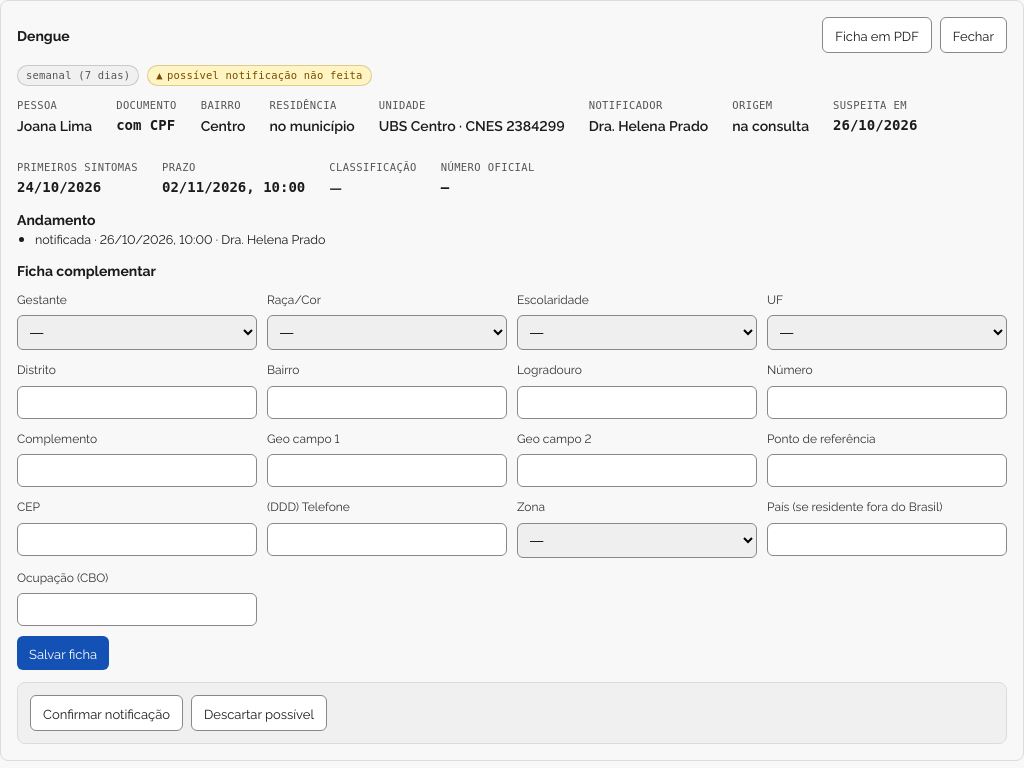
it: NotificationDetail › depois do descarte a fila e a contagem são invalidadas
The image size is (1024, 768).
Click the button "Descartar possível". click: (259,713)
box: [191,695,327,731]
(page scrolled)
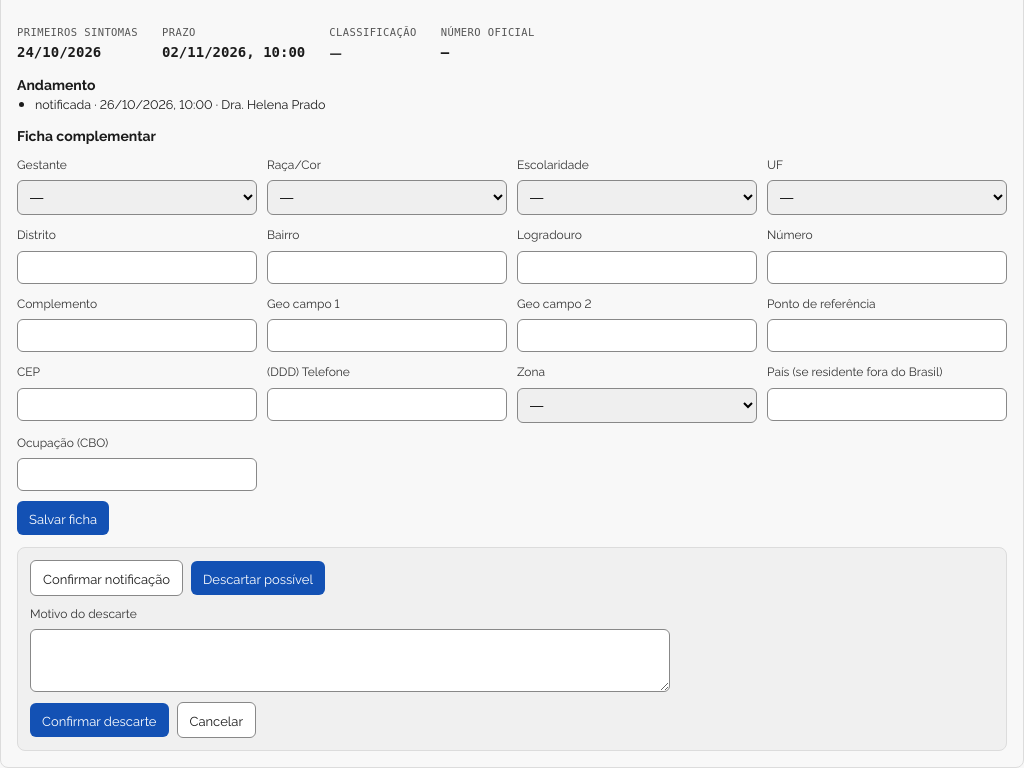
Type "não era caso" into the text box labelled "Motivo do descarte". click: (350,661)
box: [30,629,670,692]
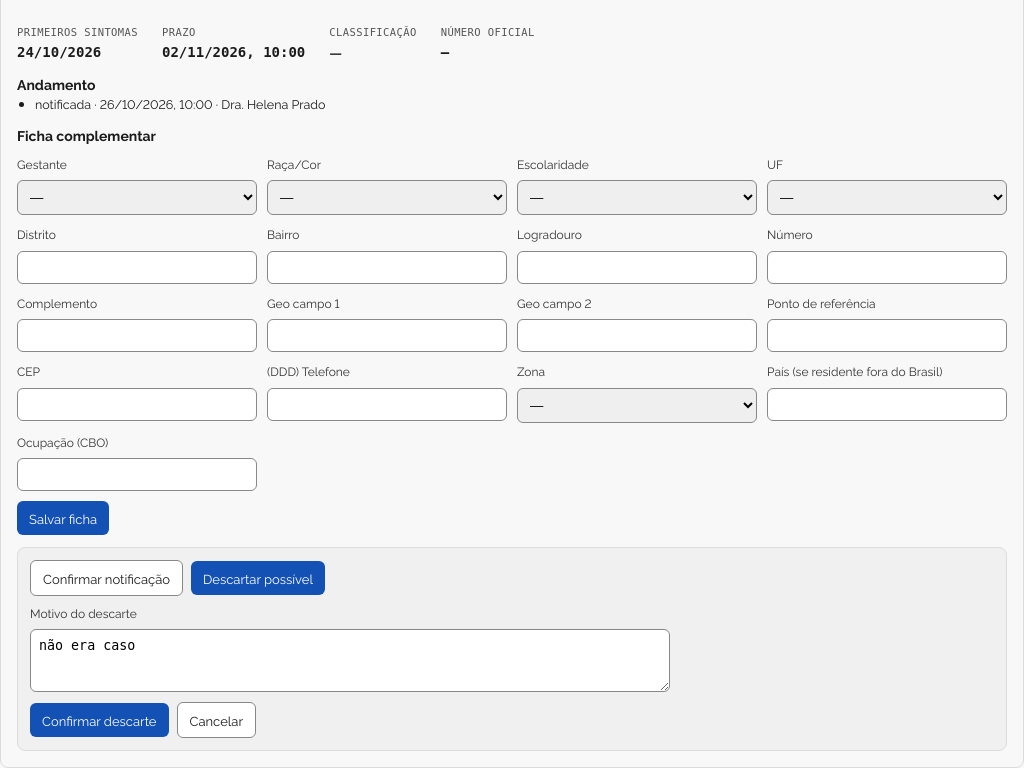
Click the button "Confirmar descarte". click: (99,720)
box: [30,703,168,737]
(page scrolled)
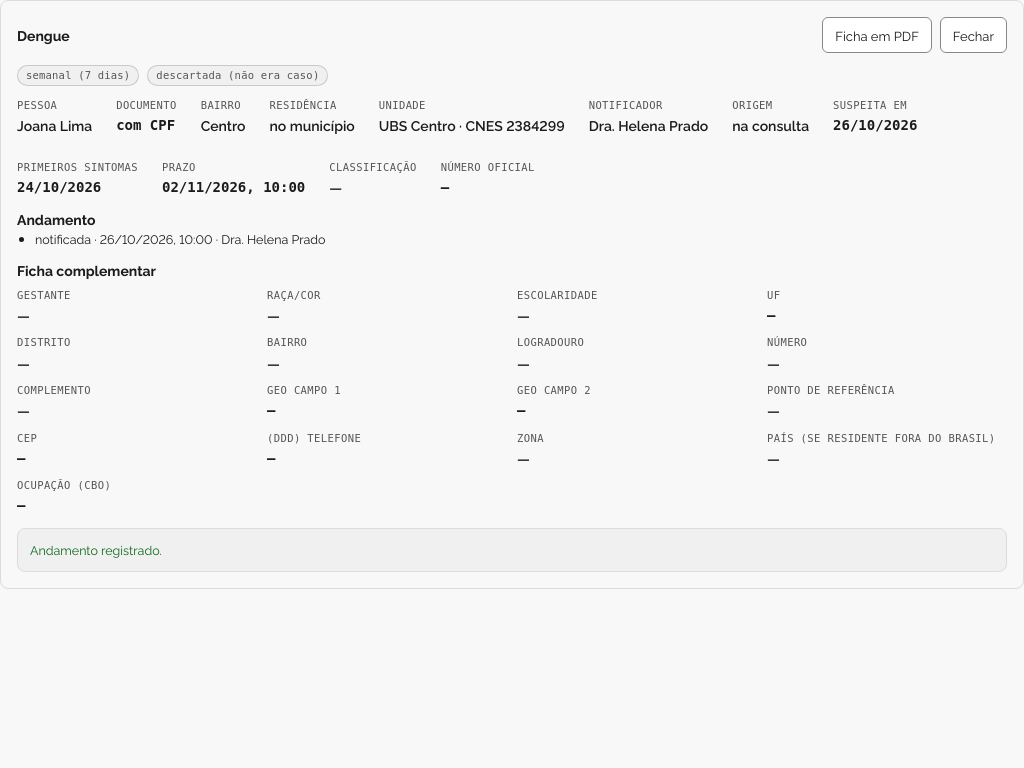
Check: the message "Andamento registrado." is shown, box [30,540,162,558]
